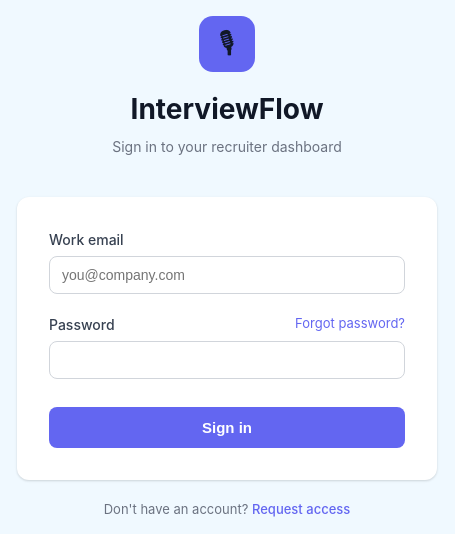
Test: LoginPage › disables submit button while loading
Type "test@example.com" into the field labelled "Work email" at [227, 275], box [49,256,405,294]
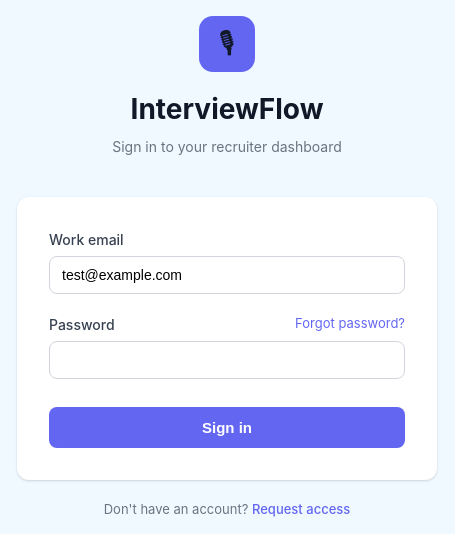
Type "Password123!" into the password field labelled "Password" at [227, 360], box [49,341,405,379]
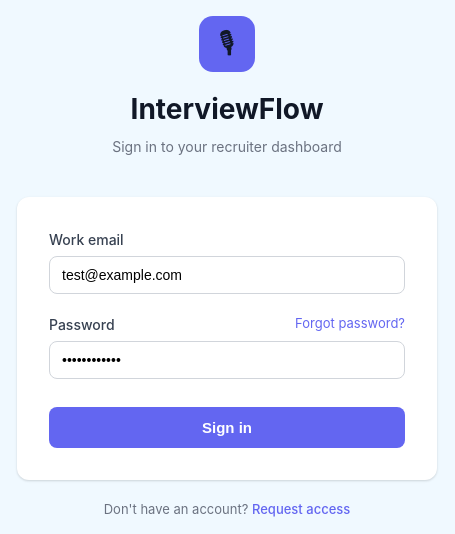
Click the button "Sign in" at [227, 428], box [49,407,405,448]
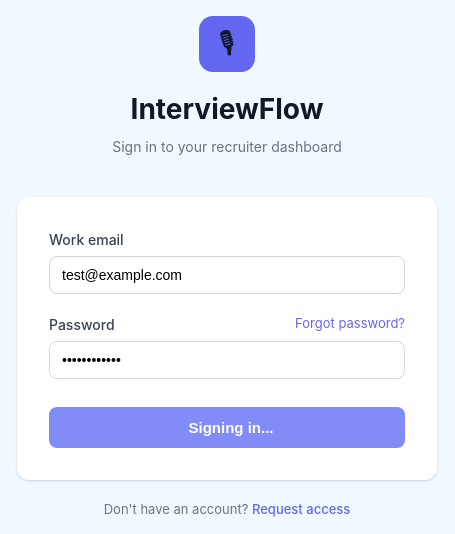
Now the button "Signing in..." is disabled, box [49,407,405,448]
